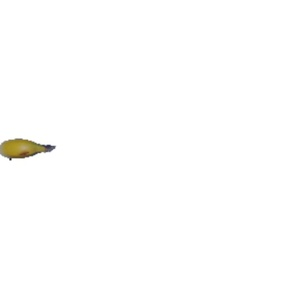banana: (1, 133, 51, 164)
